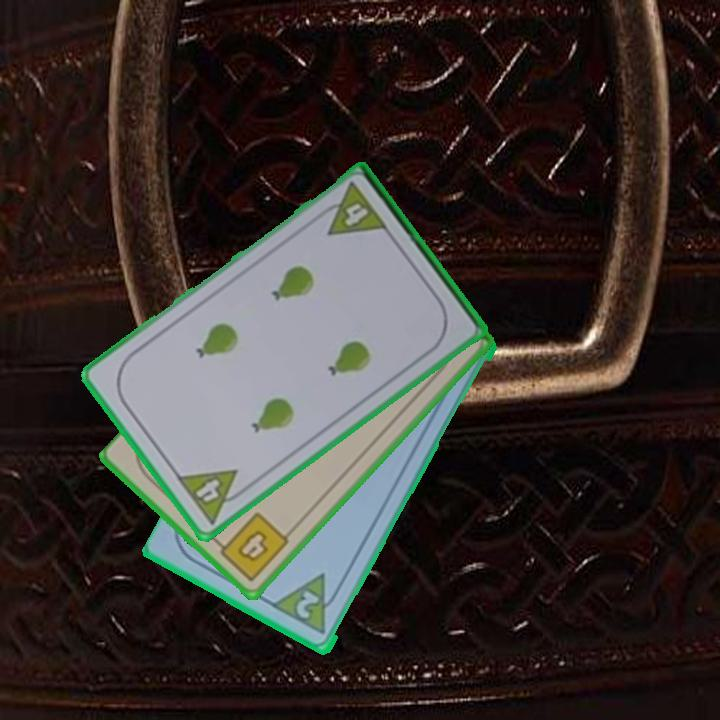2p: (292, 587, 323, 622)
4b: (211, 508, 292, 585)
4p: (172, 466, 252, 528), (313, 179, 391, 240)
